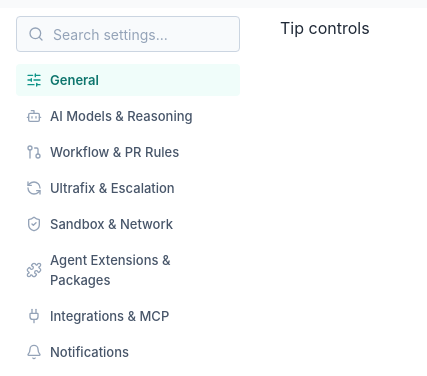
Test case: SettingsNavigation › lists the settings domains in a vertical rail beside a constrained reading pane
The image size is (427, 376).
Expected: the text "Tip controls" is shown, [280,18,370,38]
Click the tab "Sandbox & Network".
click(128, 224)  # box [16,208,240,240]
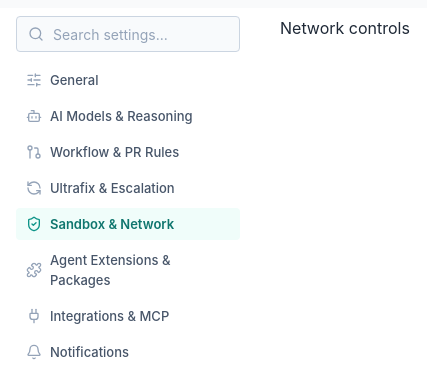
Now the text "Network controls" is shown, box [280,18,410,38]
Now the text "Tip controls" is gone
